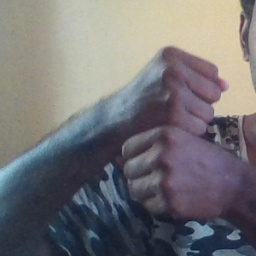G: (115, 42, 235, 222)
